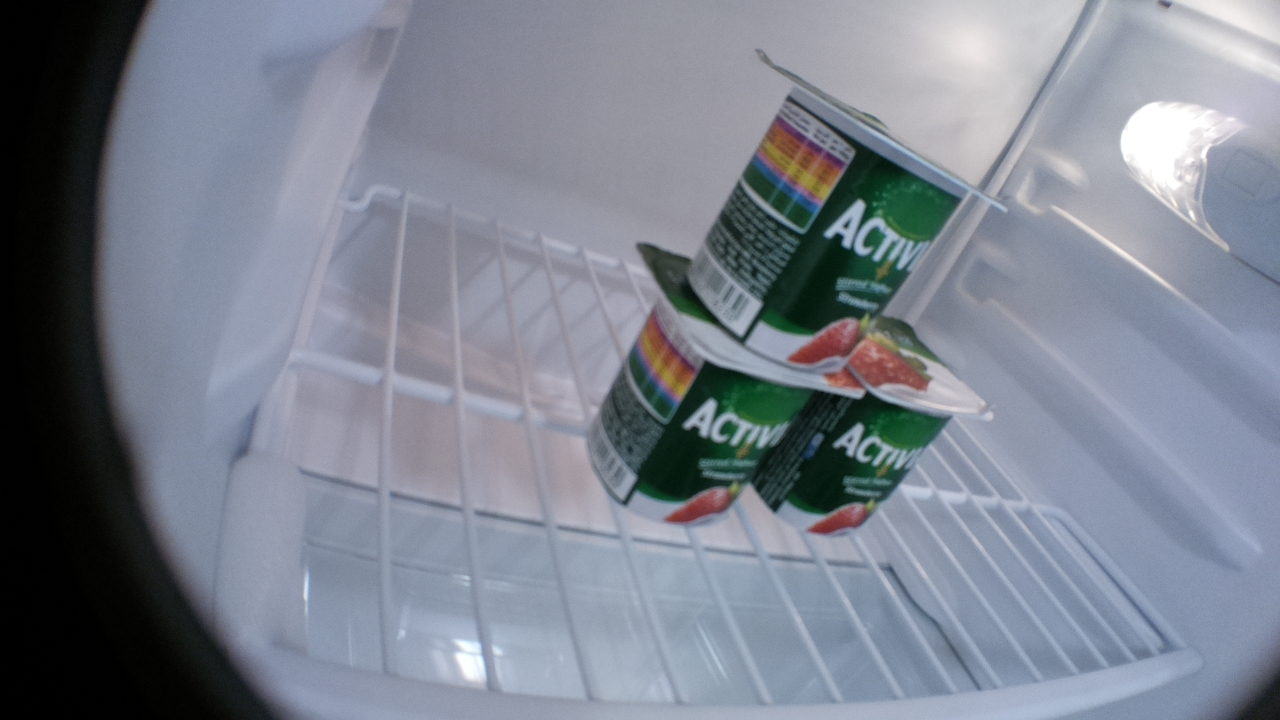yoghurt: (686, 45, 1007, 373), (584, 241, 863, 530), (752, 316, 998, 539)
